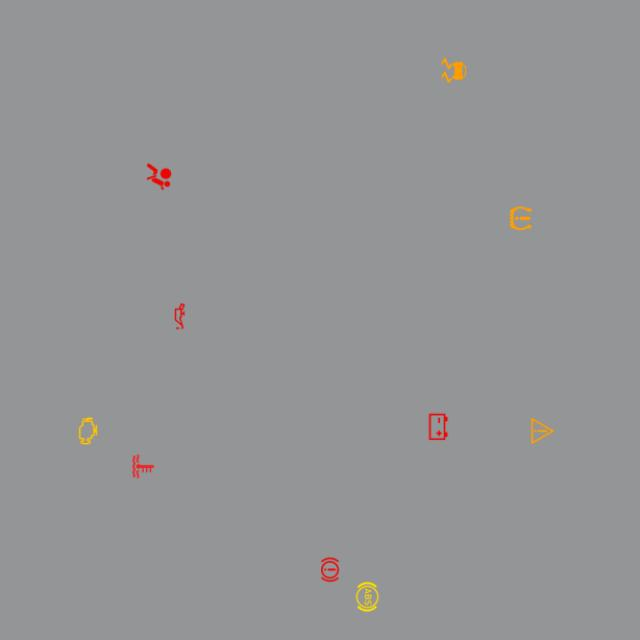Anti Lock Braking System: (351, 580, 384, 613)
Braking System Issue: (314, 553, 346, 586)
Charging System Issue: (422, 411, 455, 443)
Check Engine: (72, 415, 104, 447)
Electronic Stability Problem -ESP-: (438, 54, 470, 87)
Engine Overheating Warning Light: (127, 450, 160, 483)
Low Engine Oil Warning Light: (164, 300, 196, 333)
Low Tire Pressure Warning Light: (504, 202, 537, 235)
Master warning light: (526, 415, 559, 447)
SRS-Airbag: (143, 160, 175, 193)
